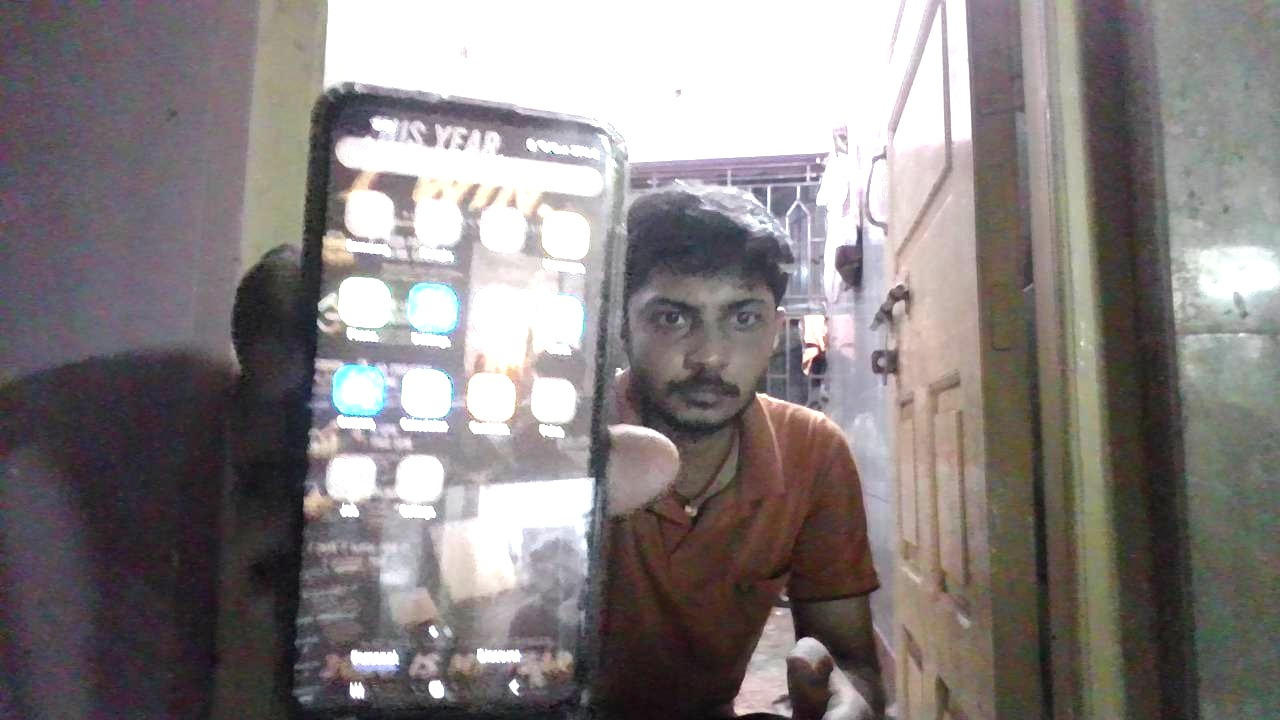red_box: (700, 415, 859, 563)
